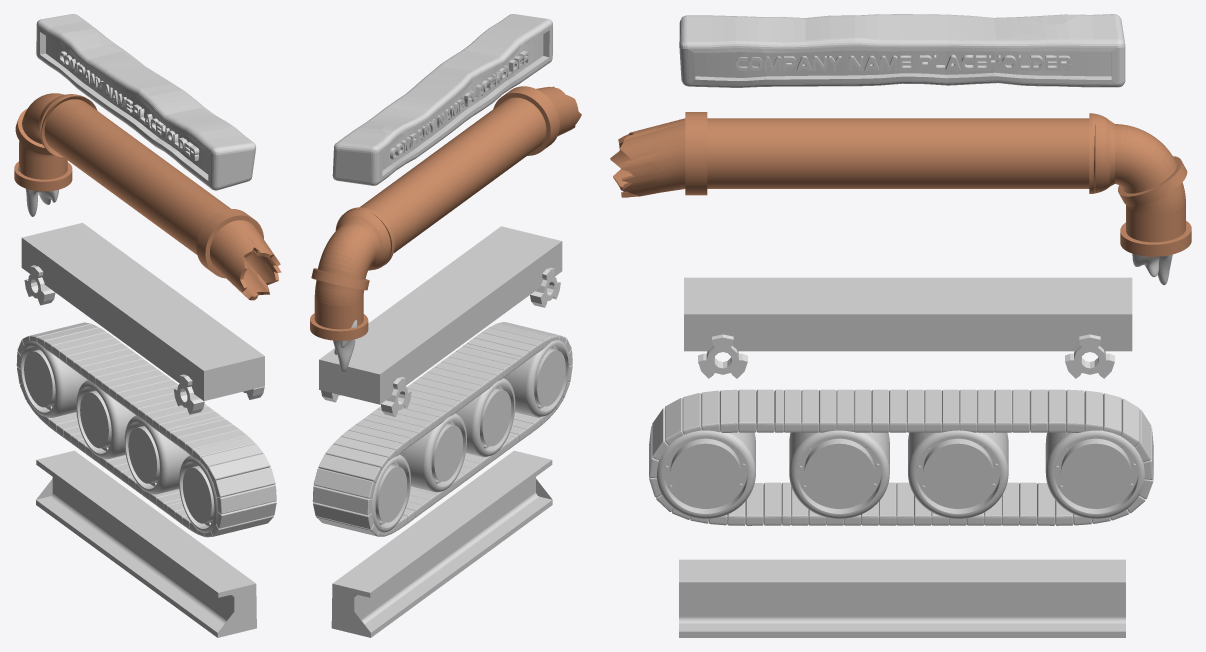
3 renders of one model, left to right at view 1: azimuth 30°, elevation 25°; view 2: azimuth 150°, elevation 25°; view 3: azimuth 270°, elevation 25°, orthographic. The views are drawn at different scales.
Visible parts, largest first — view 1: Pipe, Cube, ConveyorBelt, I-Beam, SteelPlatform, ConveyorWheel4, ConveyorWheel2, ConveyorWheel3, ConveyorWheel1, Text1.001, Gear3, Gear4 (+1 smaller); view 2: Pipe, ConveyorBelt, Cube, I-Beam, SteelPlatform, ConveyorWheel3, ConveyorWheel1, ConveyorWheel2, ConveyorWheel4, Text1.001, Gear3, Gear4 (+1 smaller); view 3: Pipe, I-Beam, Cube, ConveyorBelt, SteelPlatform, ConveyorWheel2, ConveyorWheel3, ConveyorWheel4, ConveyorWheel1, Text1.001, Gear2, Gear1.
Part boxes in pixels (x1=…): Pipe: x1=14, y1=93, x2=281, y2=300; Cube: x1=21, y1=222, x2=264, y2=400; ConveyorBelt: x1=16, y1=322, x2=276, y2=537; I-Beam: x1=36, y1=450, x2=256, y2=637; SteelPlatform: x1=36, y1=14, x2=256, y2=190; ConveyorWheel4: x1=20, y1=341, x2=87, y2=417; ConveyorWheel2: x1=124, y1=415, x2=189, y2=494; ConveyorWheel3: x1=76, y1=380, x2=135, y2=459; ConveyorWheel1: x1=179, y1=455, x2=217, y2=533; Text1.001: x1=58, y1=51, x2=199, y2=160; Gear3: x1=173, y1=374, x2=204, y2=414; Gear4: x1=24, y1=265, x2=55, y2=305; Pipe: x1=310, y1=86, x2=581, y2=340; ConveyorBelt: x1=312, y1=322, x2=572, y2=536; Cube: x1=319, y1=226, x2=562, y2=404; I-Beam: x1=331, y1=450, x2=552, y2=637; SteelPlatform: x1=332, y1=14, x2=552, y2=185; ConveyorWheel3: x1=399, y1=413, x2=466, y2=492; ConveyorWheel1: x1=504, y1=340, x2=569, y2=417; ConveyorWheel2: x1=455, y1=378, x2=515, y2=456; ConveyorWheel4: x1=371, y1=454, x2=410, y2=532; Text1.001: x1=390, y1=51, x2=529, y2=160; Gear3: x1=530, y1=267, x2=560, y2=307; Gear4: x1=380, y1=377, x2=411, y2=416; Pipe: x1=610, y1=112, x2=1191, y2=256; I-Beam: x1=679, y1=559, x2=1125, y2=637; Cube: x1=684, y1=277, x2=1132, y2=351; ConveyorBelt: x1=649, y1=389, x2=1153, y2=525; SteelPlatform: x1=679, y1=14, x2=1125, y2=87; ConveyorWheel2: x1=789, y1=430, x2=889, y2=518; ConveyorWheel3: x1=908, y1=430, x2=1008, y2=518; ConveyorWheel4: x1=1045, y1=430, x2=1144, y2=518; ConveyorWheel1: x1=657, y1=430, x2=755, y2=518; Text1.001: x1=735, y1=54, x2=1070, y2=71; Gear2: x1=1065, y1=334, x2=1114, y2=378; Gear1: x1=698, y1=334, x2=747, y2=378.
Bounding box in the file's own units: 92.98 × 615 × 539.
